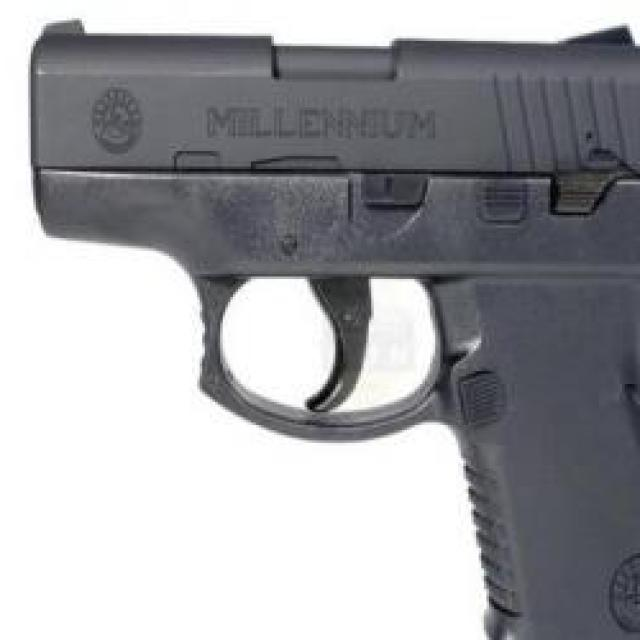pistol: (30, 10, 640, 640)
